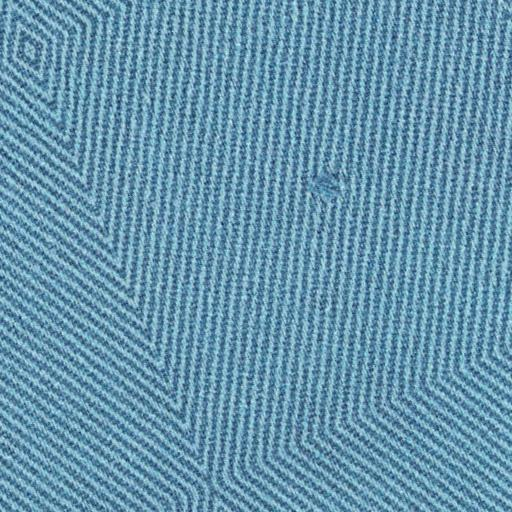knot: (298, 169, 355, 214)
